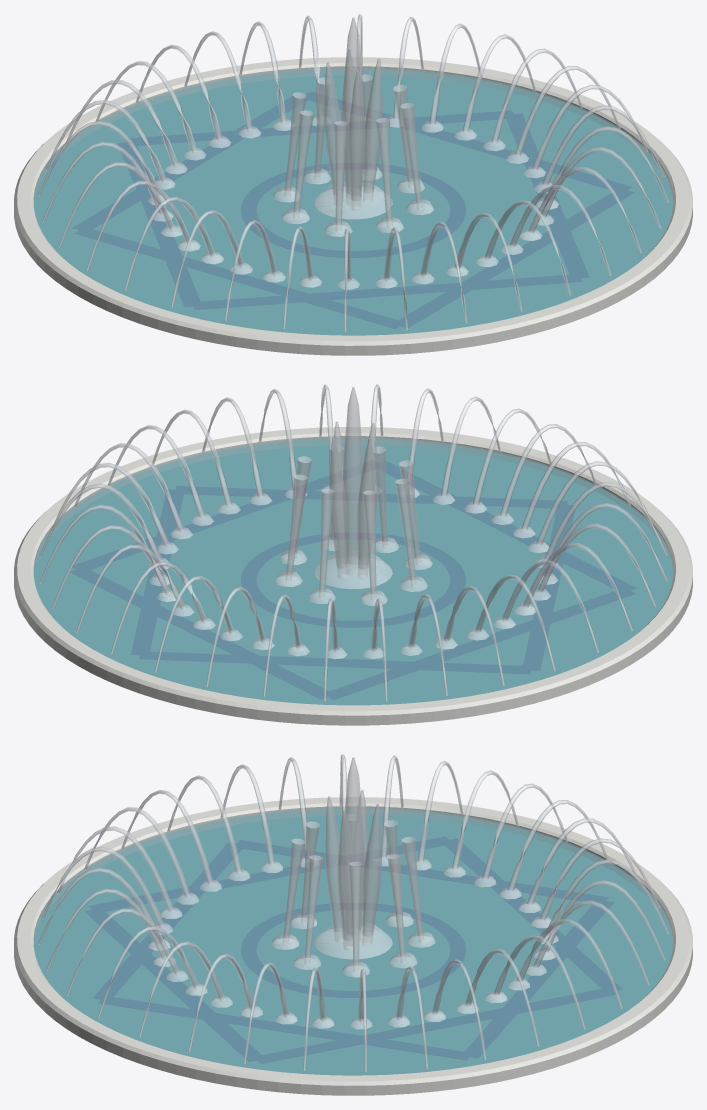
File: sultanahmet-park-fountain.glb
3 views of the same model, one above another, from view 1: azimuth 30°, elevation 25°; view 2: azimuth 150°, elevation 25°; view 3: azimuth 270°, elevation 25° (orthographic).
Visible parts, largest first — view 1: sultanahmet-park-fountain; view 2: sultanahmet-park-fountain; view 3: sultanahmet-park-fountain.
Boxes of the visible parts, <box> form: sultanahmet-park-fountain: <box>14,14,692,355</box>; sultanahmet-park-fountain: <box>14,384,692,725</box>; sultanahmet-park-fountain: <box>14,754,692,1095</box>.
Size of the model in its own units: 25.91 by 8.2 by 25.91.
